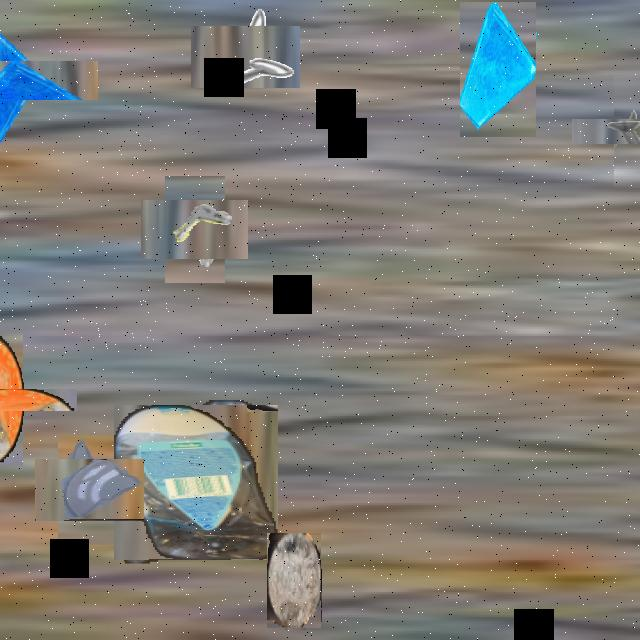glass: (460, 2, 536, 137), (46, 448, 132, 534), (0, 30, 69, 129)
metal: (202, 14, 288, 100), (153, 188, 237, 271), (593, 97, 640, 165)
plastic: (116, 402, 276, 562), (0, 361, 50, 438)
wood: (267, 534, 321, 630)
